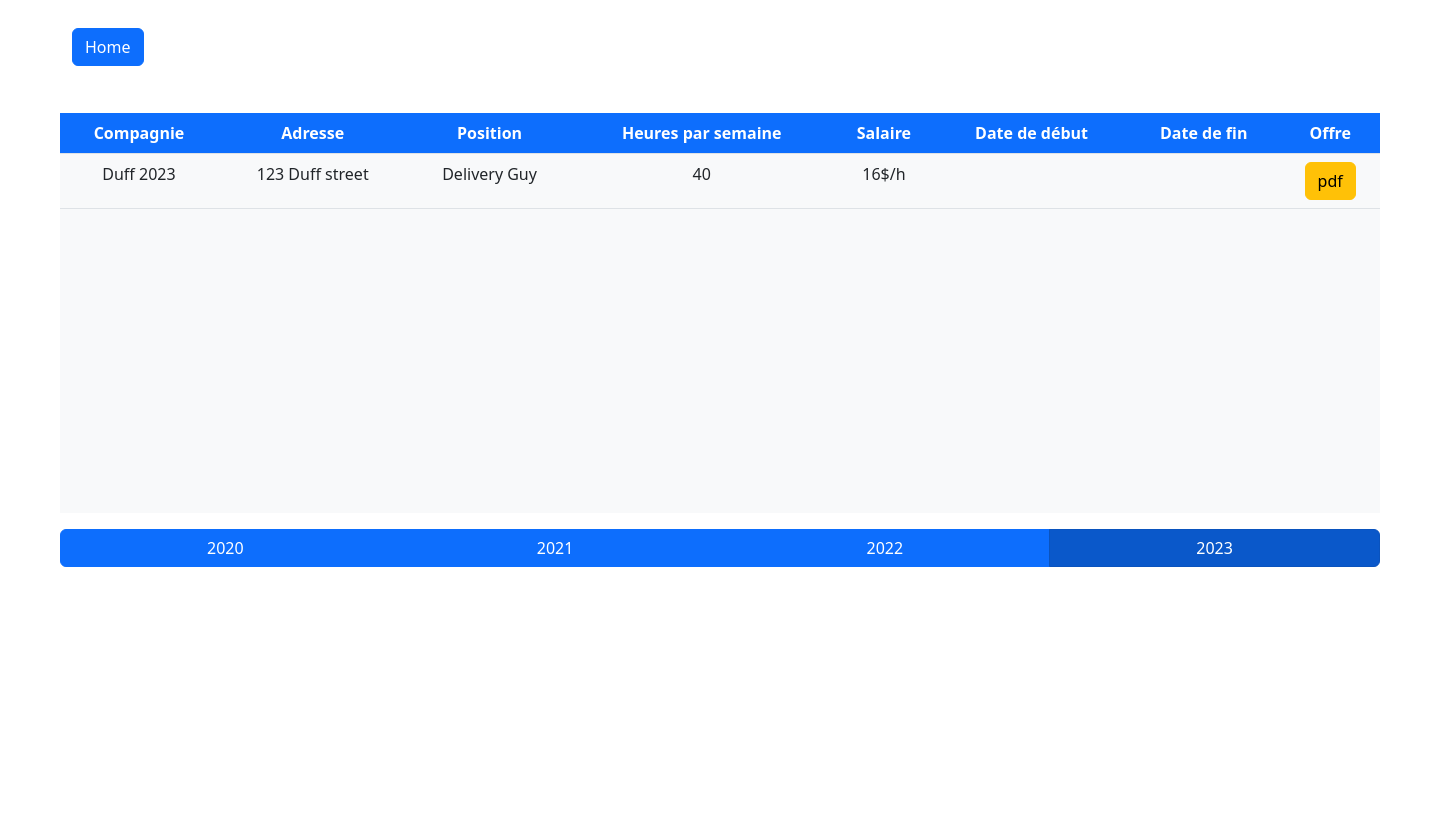
it: PreviousOffersPageTests › PDFTest
The image size is (1440, 822).
Click the button "pdf".
click(1330, 181)  # box [1305,162,1356,200]
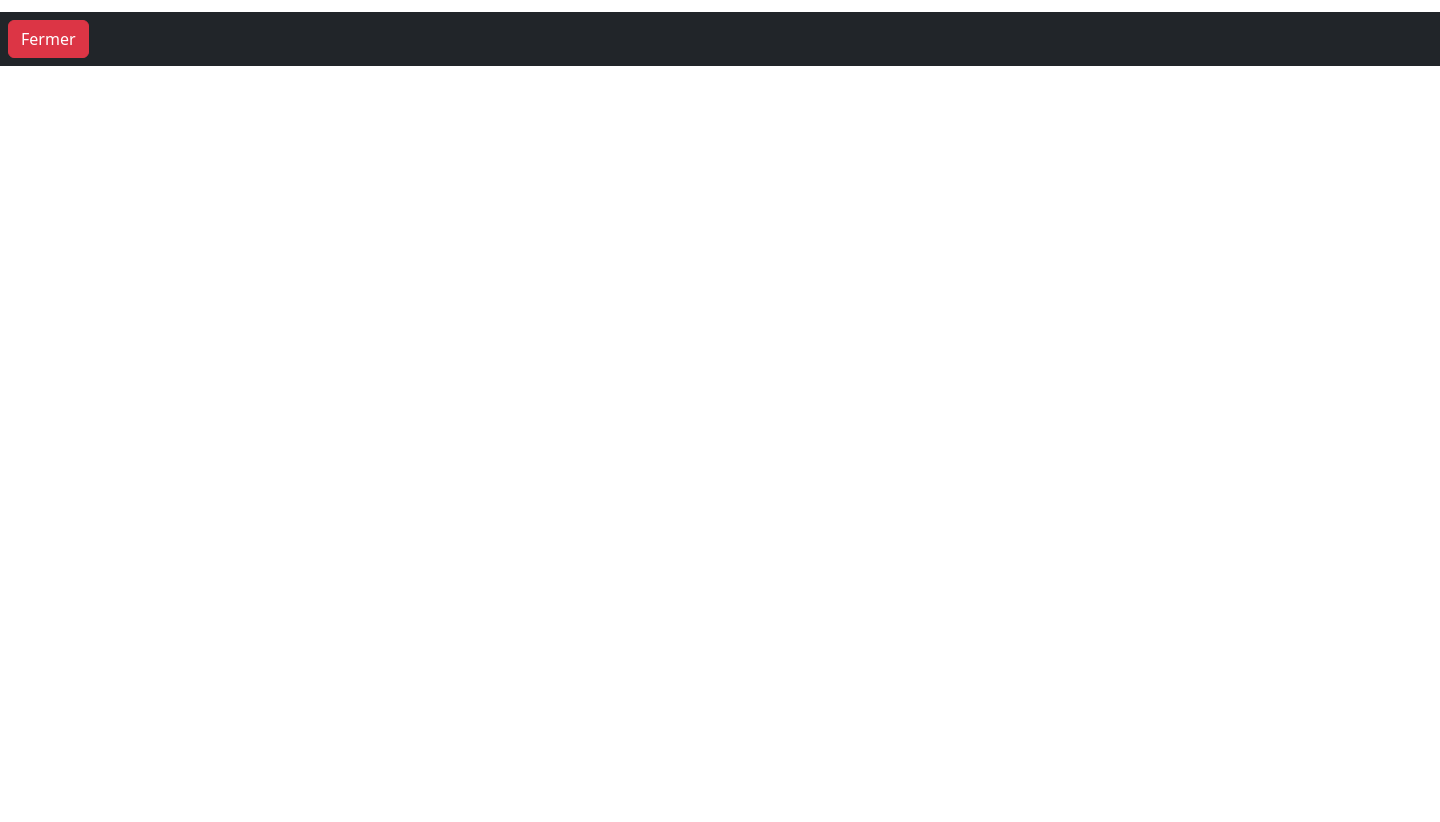
Result: the button "Fermer" is shown at [8,20,88,58]
